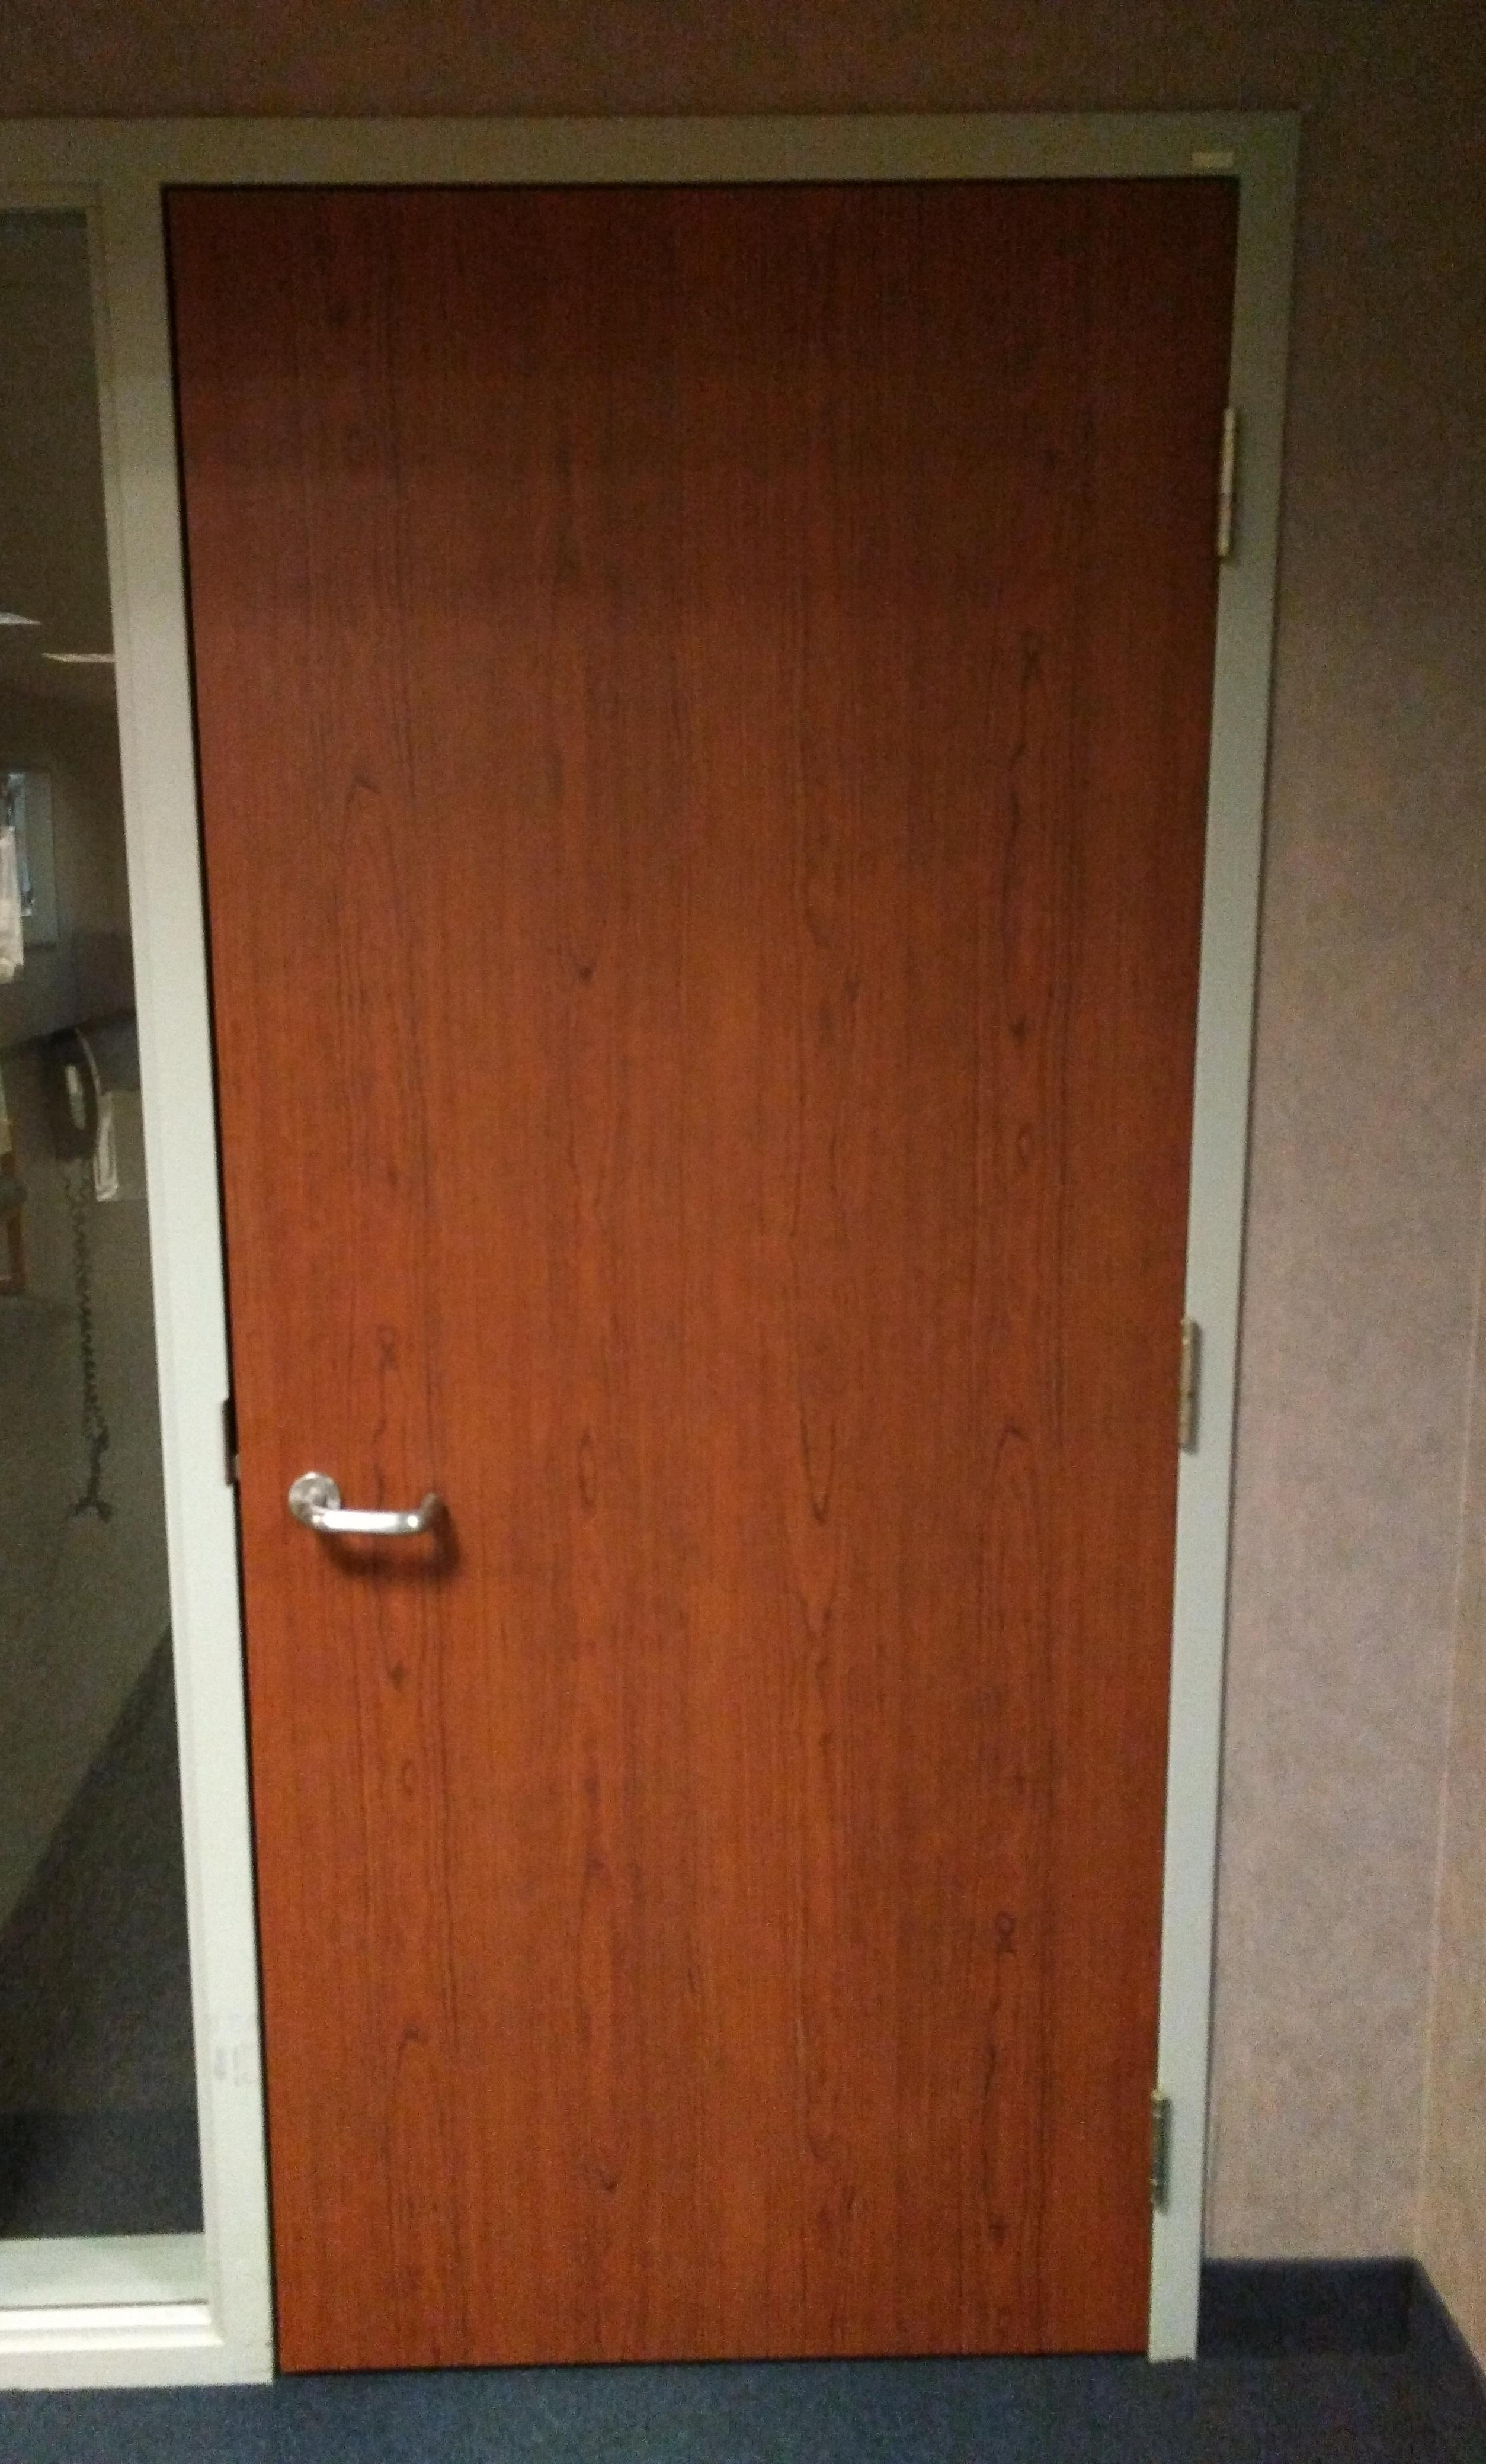door: (102, 113, 1306, 2388)
